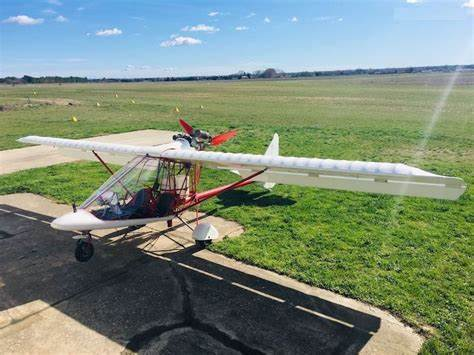Aeronef_de_loisir: (8, 117, 470, 272)
